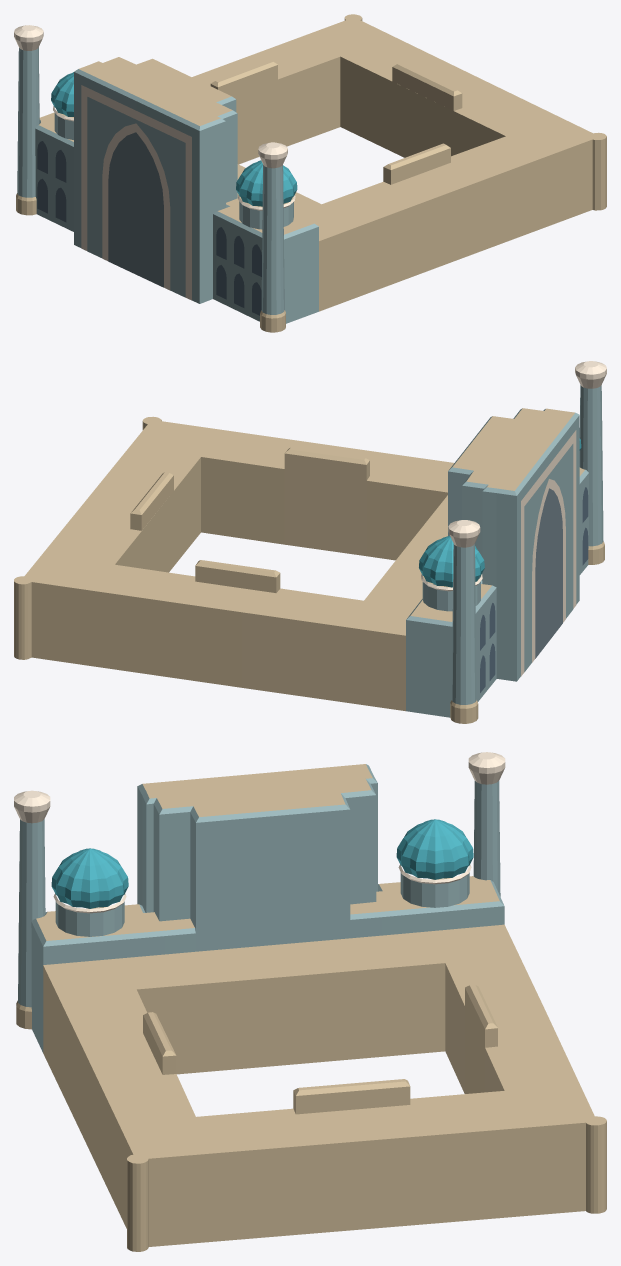
Rendered from samarkand-sher-dor-madrasa.glb.
3 views of the same model, one above another, from view 1: azimuth 30°, elevation 25°; view 2: azimuth 150°, elevation 25°; view 3: azimuth 270°, elevation 25° (orthographic). The views are drawn at different scales.
Visible parts, largest first — view 1: Sher-Dor Madrasa; view 2: Sher-Dor Madrasa; view 3: Sher-Dor Madrasa.
Boxes of the visible parts, bbox=[...] form: Sher-Dor Madrasa: bbox=[14, 14, 606, 332]; Sher-Dor Madrasa: bbox=[14, 361, 606, 723]; Sher-Dor Madrasa: bbox=[14, 752, 606, 1251].
Bounding box in the file's own units: 80.34 × 31 × 73.
